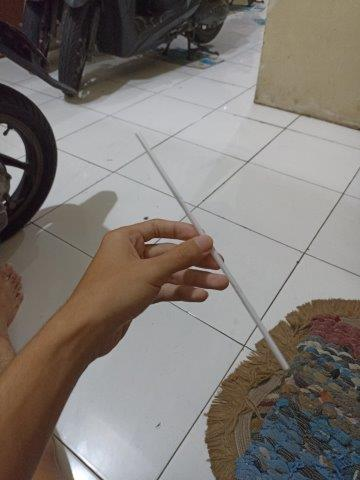sedotan: (135, 132, 286, 370)
